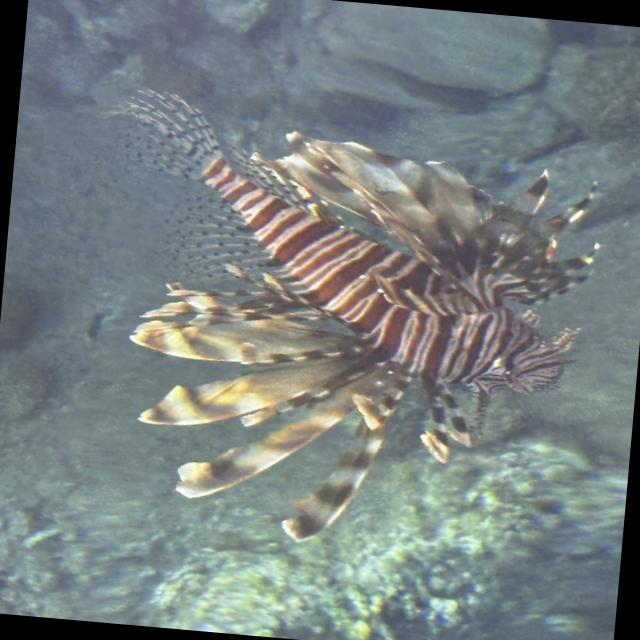Aslan Baligi: (67, 81, 613, 566)
